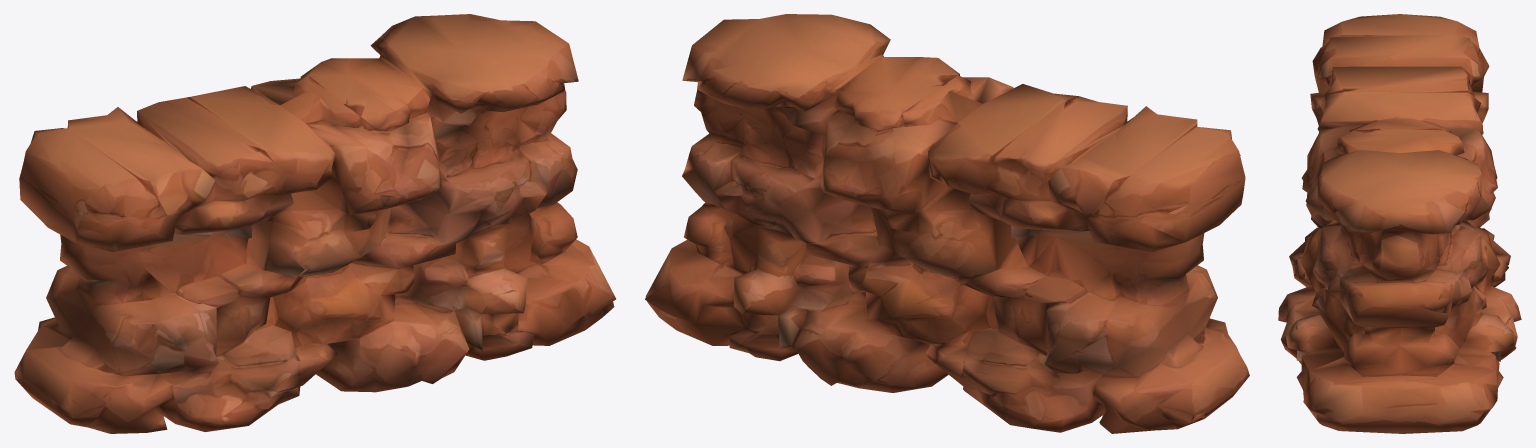
File: gnd_desert_red_rocks.fbx
3 renders of one model, left to right at view 1: azimuth 30°, elevation 25°; view 2: azimuth 150°, elevation 25°; view 3: azimuth 270°, elevation 25°, orthographic. The views are drawn at different scales.
Visible parts, largest first — view 1: gnd_desert_red_rocks_LOD0; view 2: gnd_desert_red_rocks_LOD0; view 3: gnd_desert_red_rocks_LOD0.
Boxes of the visible parts, x1,y1,x2,y2 form: gnd_desert_red_rocks_LOD0: (14,14,615,433); gnd_desert_red_rocks_LOD0: (645,14,1249,433); gnd_desert_red_rocks_LOD0: (1278,14,1521,433).
Size of what is drawn, in the model's own units: 0.9845 by 0.4613 by 0.4561.
